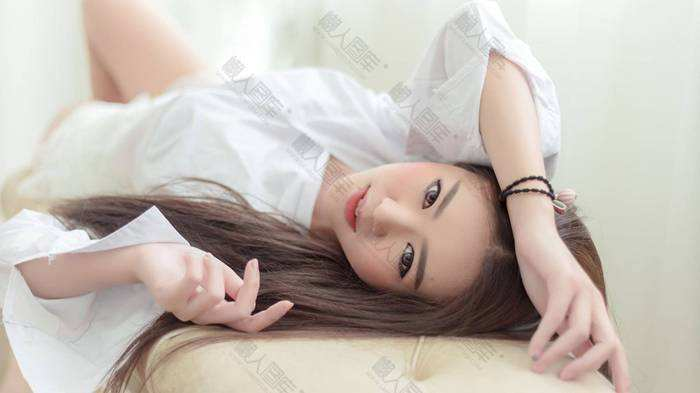person: (57, 70, 601, 382)
